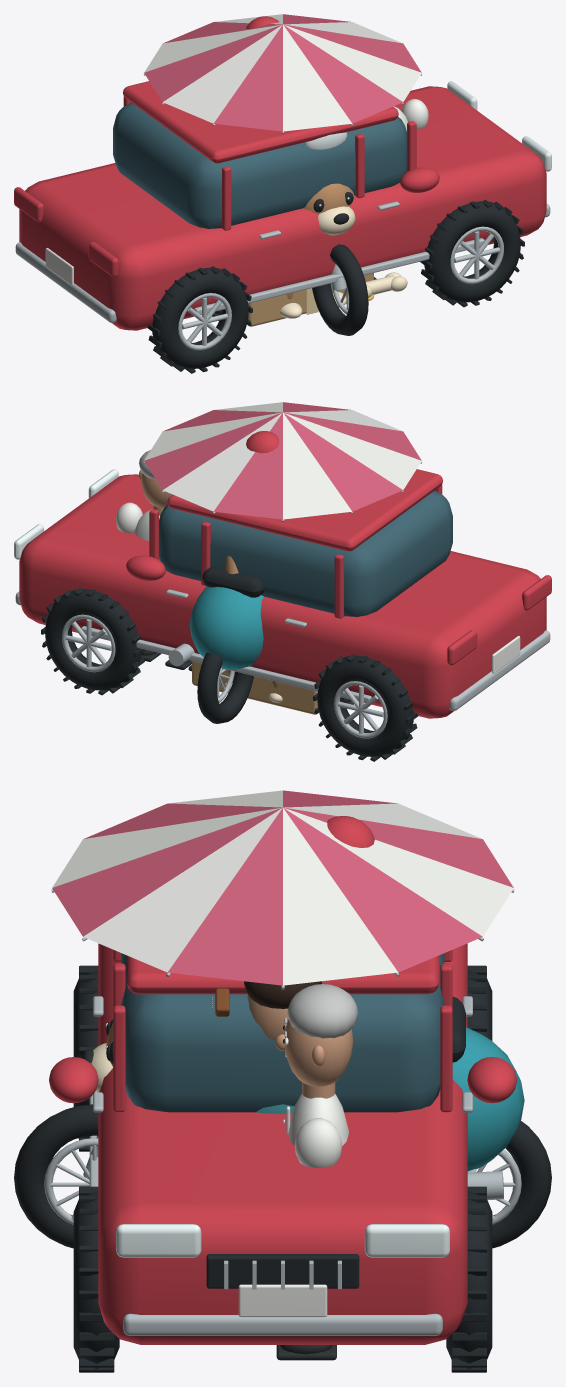
Rendered from events-kit.glb.
3 views of the same model, one above another, from view 1: azimuth 30°, elevation 25°; view 2: azimuth 150°, elevation 25°; view 3: azimuth 270°, elevation 25° (orthographic). The views are drawn at different scales.
Parts seen in each view (by area): view 1: Lamp cluster, Canopy, Cabin glass, Radial tire.002, Radial tire.003, Bumper, Scooter tire.001, Alloy spoke.024, Alloy spoke.016, Delivery carton, Floppy ear, Lamp cluster.002 (+5 smaller); view 2: Lamp cluster, Canopy, Cabin glass, Radial tire, Radial tire.001, Engine fairing, Bumper, Scooter tire, Delivery carton, Alloy spoke.008, Alloy spoke, Rubber grip (+5 smaller); view 3: Lamp cluster, Canopy, Cabin glass, Bumper, Lamp cluster.002, Radial tire.001, Radial tire.003, Scooter tire.001, Engine fairing, Grille, Scooter tire, Ear.008 (+14 smaller).
Boxes of the visible parts, box(x1,y1,x2,y2) form: Lamp cluster: box(14, 81, 546, 330); Canopy: box(144, 14, 421, 131); Cabin glass: box(113, 102, 406, 228); Radial tire.002: box(147, 266, 252, 373); Radial tire.003: box(420, 199, 524, 307); Bumper: box(15, 201, 550, 322); Scooter tire.001: box(312, 244, 368, 335); Alloy spoke.024: box(450, 226, 503, 284); Alloy spoke.016: box(178, 293, 231, 350); Delivery carton: box(247, 273, 373, 326); Floppy ear: box(303, 183, 355, 214); Lamp cluster.002: box(447, 81, 551, 171); Lamp cluster: box(19, 469, 551, 718); Canopy: box(144, 402, 421, 519); Cabin glass: box(159, 490, 452, 616); Radial tire: box(313, 654, 418, 761); Radial tire.001: box(41, 587, 145, 695); Engine fairing: box(189, 586, 263, 670); Bumper: box(15, 589, 550, 710); Scooter tire: box(197, 652, 253, 723); Delivery carton: box(192, 661, 318, 714); Alloy spoke.008: box(62, 614, 115, 672); Alloy spoke: box(334, 681, 387, 738); Rubber grip: box(202, 567, 264, 597); Lamp cluster: box(49, 943, 516, 1344); Canopy: box(52, 790, 513, 985); Cabin glass: box(121, 953, 444, 1112); Bumper: box(89, 996, 476, 1335); Lamp cluster.002: box(116, 1224, 449, 1257); Radial tire.001: box(446, 1186, 492, 1372); Radial tire.003: box(73, 1186, 119, 1372); Scooter tire.001: box(14, 1104, 98, 1248); Engine fairing: box(452, 1027, 524, 1171); Grille: box(206, 1254, 359, 1288); Scooter tire: box(492, 1121, 551, 1248); Ear.008: box(275, 1019, 353, 1098).
Bounding box in the file's own units: 2.43 × 1.39 × 1.51.
